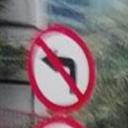NoVirarEsquerda: (25, 24, 96, 116)
